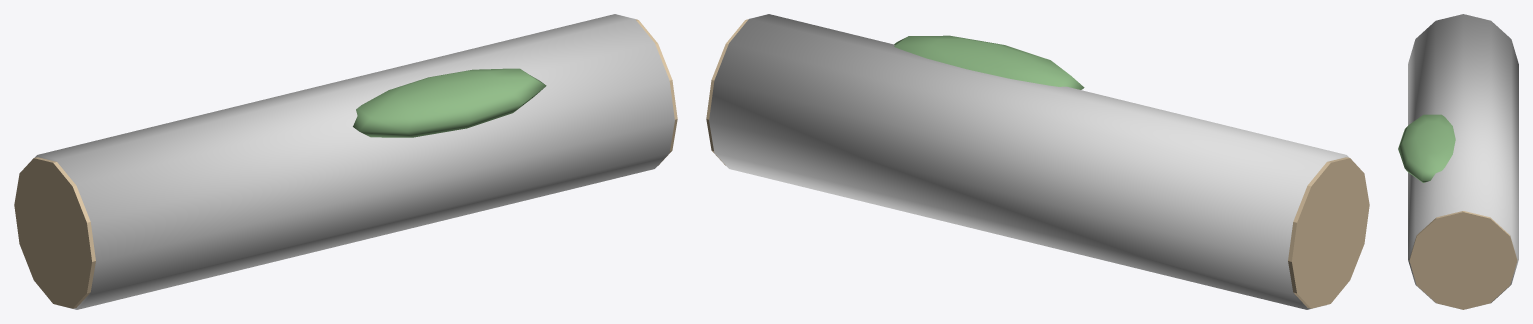
The model's file is log.fbx.
The picture shows the model from 3 angles, left to right: view 1: azimuth 30°, elevation 25°; view 2: azimuth 150°, elevation 25°; view 3: azimuth 270°, elevation 25°; orthographic projection. The views are drawn at different scales.
Visible parts, largest first — view 1: EN_log; view 2: EN_log; view 3: EN_log.
Boxes of the visible parts, box(x1,y1,x2,y2) form: EN_log: box(14, 14, 677, 309); EN_log: box(706, 14, 1369, 309); EN_log: box(1398, 14, 1518, 309).
Bounding box in the file's own units: 152 × 36.8 × 39.2.
